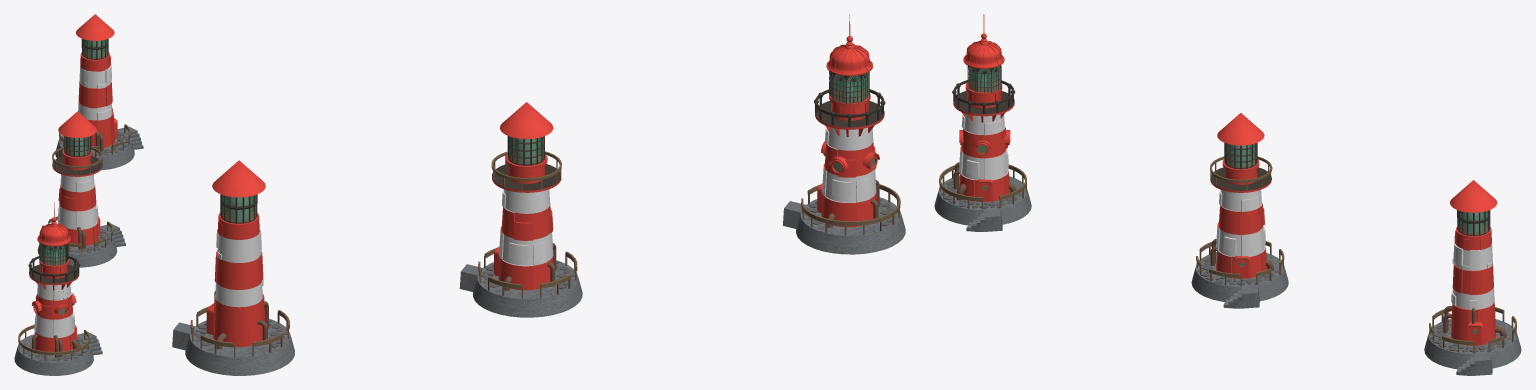
Rendered from lighthouse.glb.
The picture shows the model from 3 angles, left to right: view 1: azimuth 30°, elevation 25°; view 2: azimuth 150°, elevation 25°; view 3: azimuth 270°, elevation 25°; orthographic projection. The views are drawn at different scales.
Visible parts, largest first — view 1: Object_7, Object_8, Object_11, Object_5, Object_12, Object_3, Object_10, Object_9, Object_6, Object_4; view 2: Object_7, Object_8, Object_11, Object_5, Object_12, Object_3, Object_10, Object_9, Object_6; view 3: Object_7, Object_8, Object_11, Object_5, Object_12, Object_3, Object_10, Object_9, Object_6.
Part boxes in pixels (x1,y1,x2,y2): Object_7: (29, 14, 117, 351); Object_8: (14, 126, 143, 375); Object_11: (34, 66, 112, 338); Object_5: (28, 39, 108, 310); Object_12: (18, 124, 130, 361); Object_3: (35, 39, 107, 315); Object_10: (24, 131, 130, 360); Object_9: (32, 108, 112, 357); Object_6: (39, 243, 68, 265); Object_4: (71, 41, 100, 153); Object_7: (206, 14, 884, 346); Object_8: (172, 197, 905, 375); Object_11: (215, 127, 876, 307); Object_5: (220, 89, 885, 223); Object_12: (190, 151, 900, 356); Object_3: (222, 72, 874, 222); Object_10: (191, 198, 898, 351); Object_9: (214, 180, 879, 349); Object_6: (829, 71, 869, 103); Object_7: (953, 14, 1497, 346); Object_8: (934, 175, 1521, 375); Object_11: (959, 114, 1494, 310); Object_5: (952, 80, 1490, 327); Object_12: (939, 156, 1516, 353); Object_3: (968, 66, 1489, 333); Object_10: (940, 176, 1511, 352); Object_9: (953, 162, 1506, 338); Object_6: (967, 65, 1001, 92).
Bounding box in the file's own units: 16.31 × 7.69 × 21.26.
Materials: 10 (1 with a texture image).
